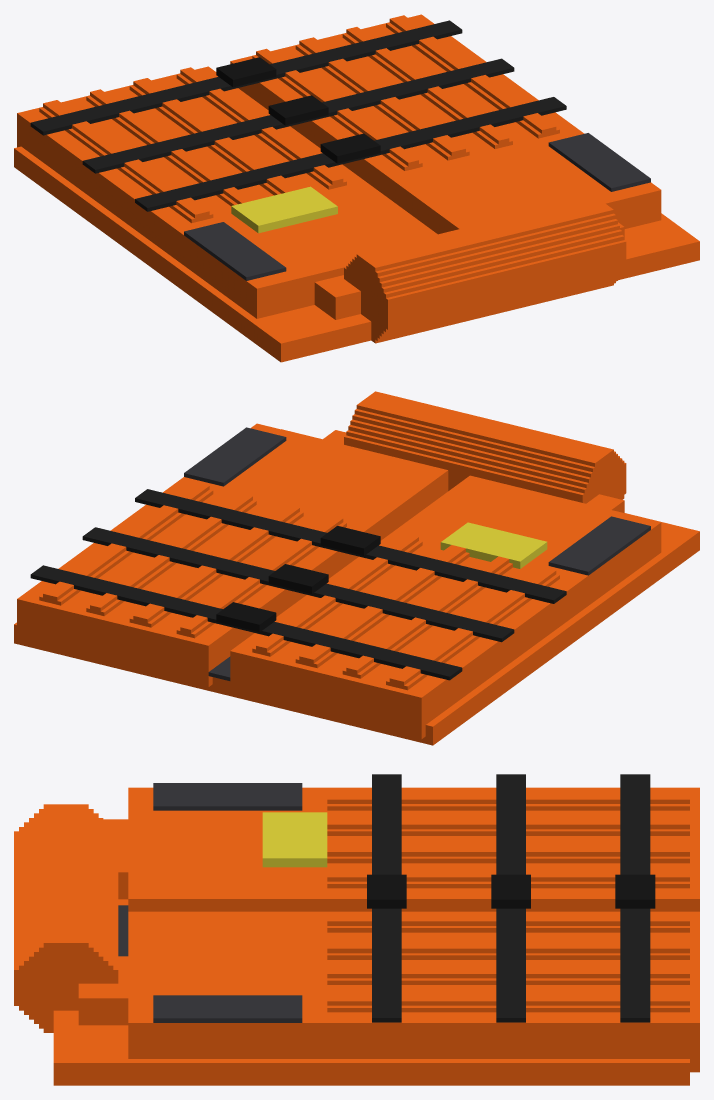
Rendered from flotation_vest.glb.
3 views of the same model, one above another, from view 1: azimuth 30°, elevation 25°; view 2: azimuth 150°, elevation 25°; view 3: azimuth 270°, elevation 25° (orthographic). The views are drawn at different scales.
Parts seen in each view (by area): view 1: flotation_vest:compound; view 2: flotation_vest:compound; view 3: flotation_vest:compound.
Part boxes in pixels (x1,y1,x2,y2): flotation_vest:compound: [14, 14, 699, 362]; flotation_vest:compound: [14, 391, 699, 745]; flotation_vest:compound: [14, 774, 699, 1085].
Size of the model in its own units: 0.464 by 0.08 by 0.552.
